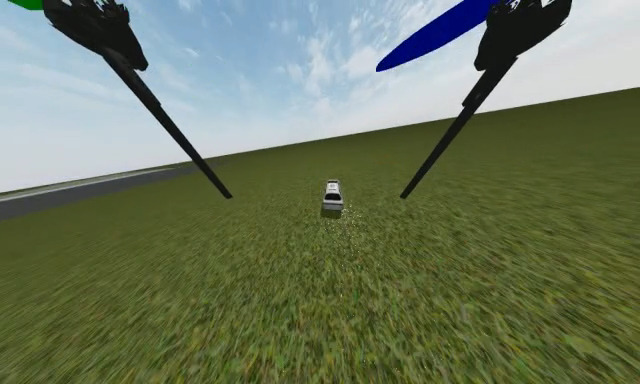Car: (321, 178, 344, 212)
